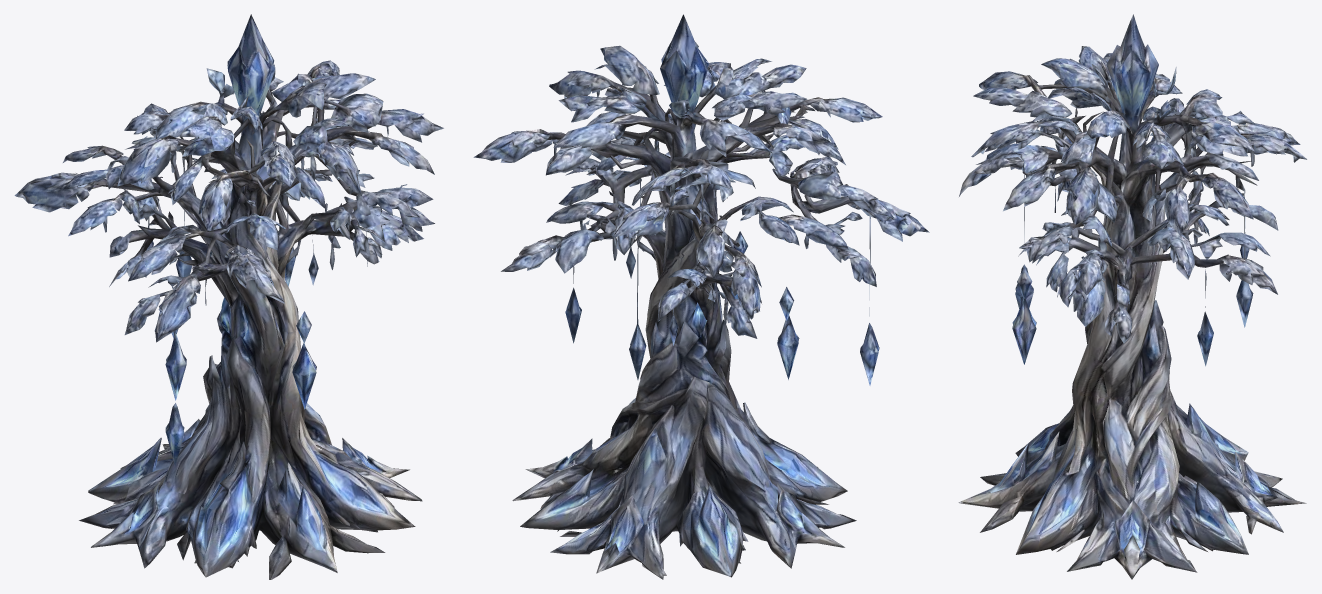
File: MAHWORLD_FOREST_TREE_PRIMARY_L0.glb
3 views of the same model, side by side, from view 1: azimuth 30°, elevation 25°; view 2: azimuth 150°, elevation 25°; view 3: azimuth 270°, elevation 25° (orthographic).
Parts seen in each view (by area): view 1: tripo_node_74de2fc4-3eb6-4b5e-a97c-50282d0c2e80; view 2: tripo_node_74de2fc4-3eb6-4b5e-a97c-50282d0c2e80; view 3: tripo_node_74de2fc4-3eb6-4b5e-a97c-50282d0c2e80.
Boxes of the visible parts, <box> form: tripo_node_74de2fc4-3eb6-4b5e-a97c-50282d0c2e80: <box>14,14,443,579</box>; tripo_node_74de2fc4-3eb6-4b5e-a97c-50282d0c2e80: <box>473,14,929,579</box>; tripo_node_74de2fc4-3eb6-4b5e-a97c-50282d0c2e80: <box>958,14,1306,579</box>.
Bounding box in the file's own units: 0.6978 × 0.9811 × 0.6307.
1 material, 1 textured.
